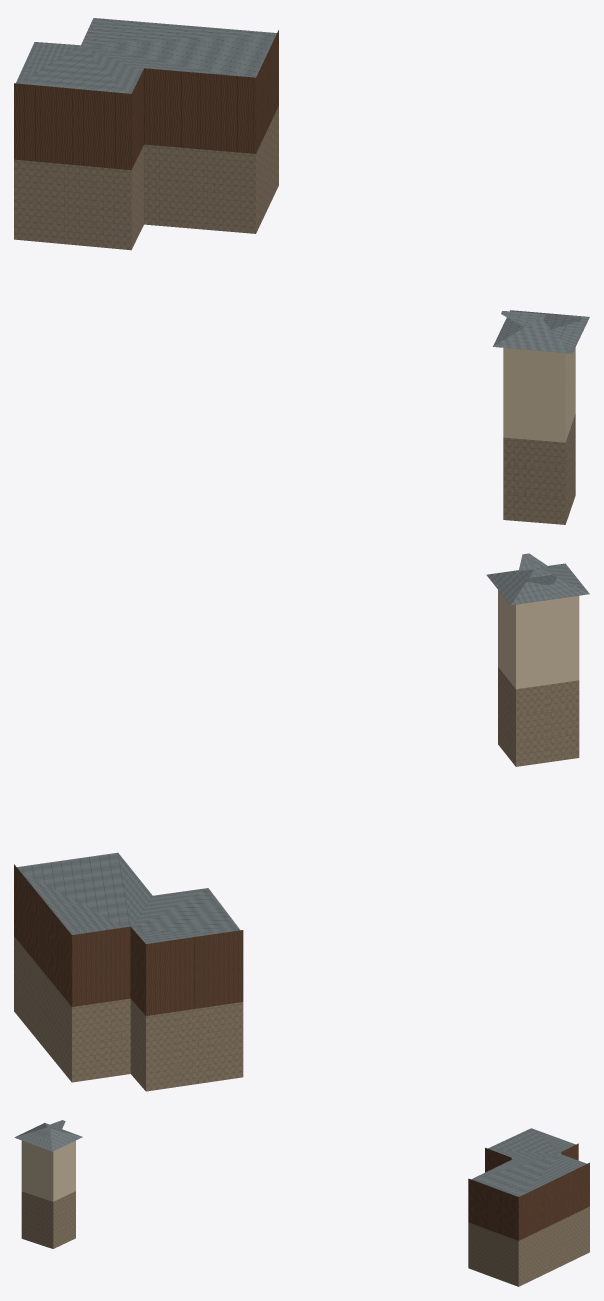
The model's file is bld_c40_47_193.gltf.
The picture shows the model from 3 angles, top to bottom: view 1: azimuth 30°, elevation 25°; view 2: azimuth 150°, elevation 25°; view 3: azimuth 270°, elevation 25°; orthographic projection. The views are drawn at different scales.
Parts seen in each view (by area): view 1: bld_c40_47_193; view 2: bld_c40_47_193; view 3: bld_c40_47_193.
Boxes of the visible parts, x1,y1,x2,y2 form: bld_c40_47_193: [14, 18, 589, 524]; bld_c40_47_193: [14, 553, 589, 1091]; bld_c40_47_193: [14, 1120, 589, 1286].
Size of the model in its own units: 16.46 by 12.7 by 56.27.
Materials: 5 (5 with a texture image).
